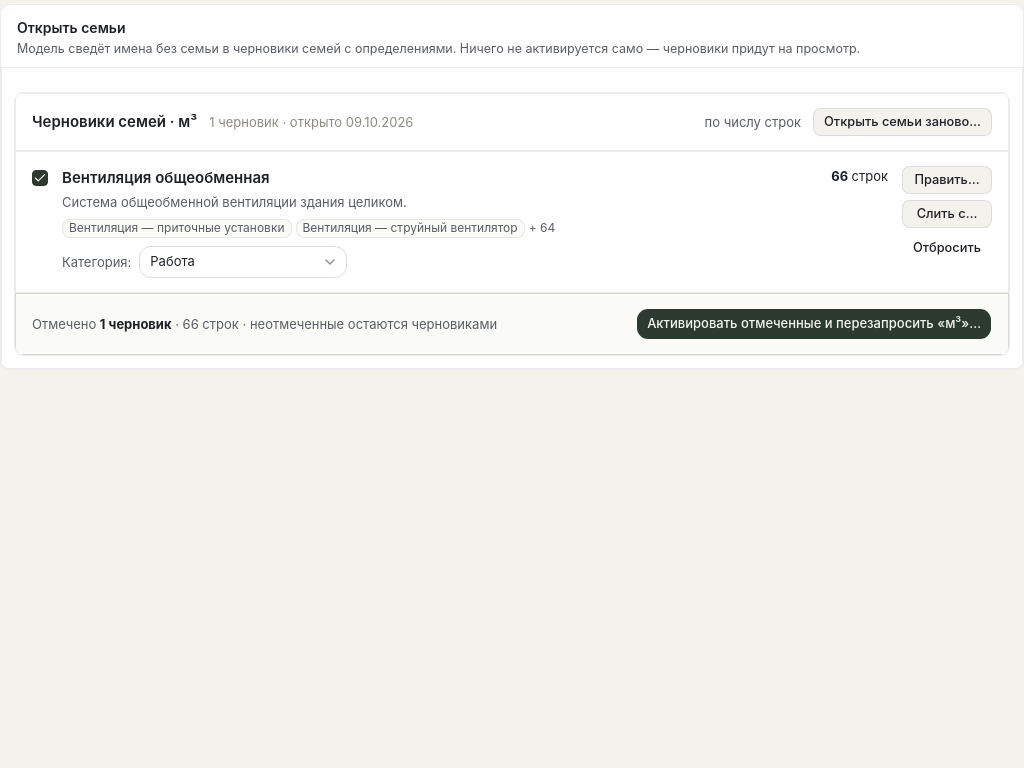
Scenario: DiscoveryBlock — черновики и перезапрос › активация открывает окно перезапроса единицы reask_unit_id; подтверждение шлёт её id
This screenshot has width=1024, height=768.
Click the button "Активировать отмеченные и перезапросить «м³»…".
click(814, 324)  # box [636,308,992,340]
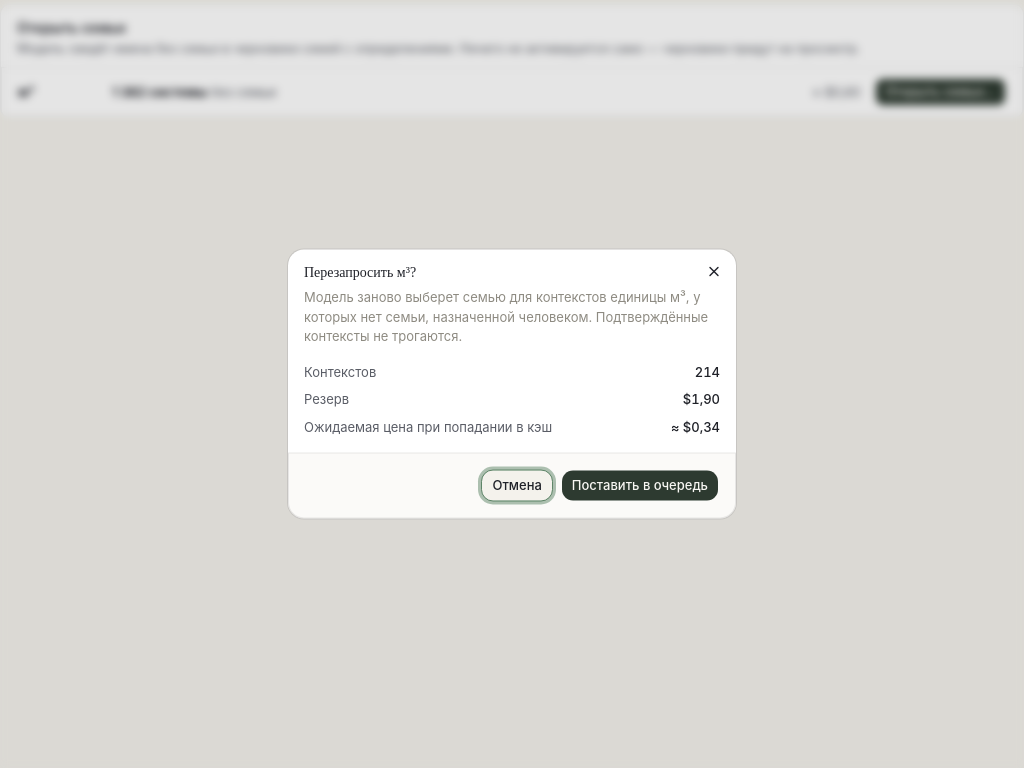
Expected: the heading "Перезапросить м³?" is shown, [304,264,416,280]
Expected: the text "Ожидаемая цена при попадании в кэш" is shown, [304,418,552,434]
Expected: the button "Поставить в очередь" is enabled
Note: Единица взята из ответа активации, а не из показанной строки.
Click the button "Поставить в очередь".
click(640, 486)  # box [561,470,719,502]
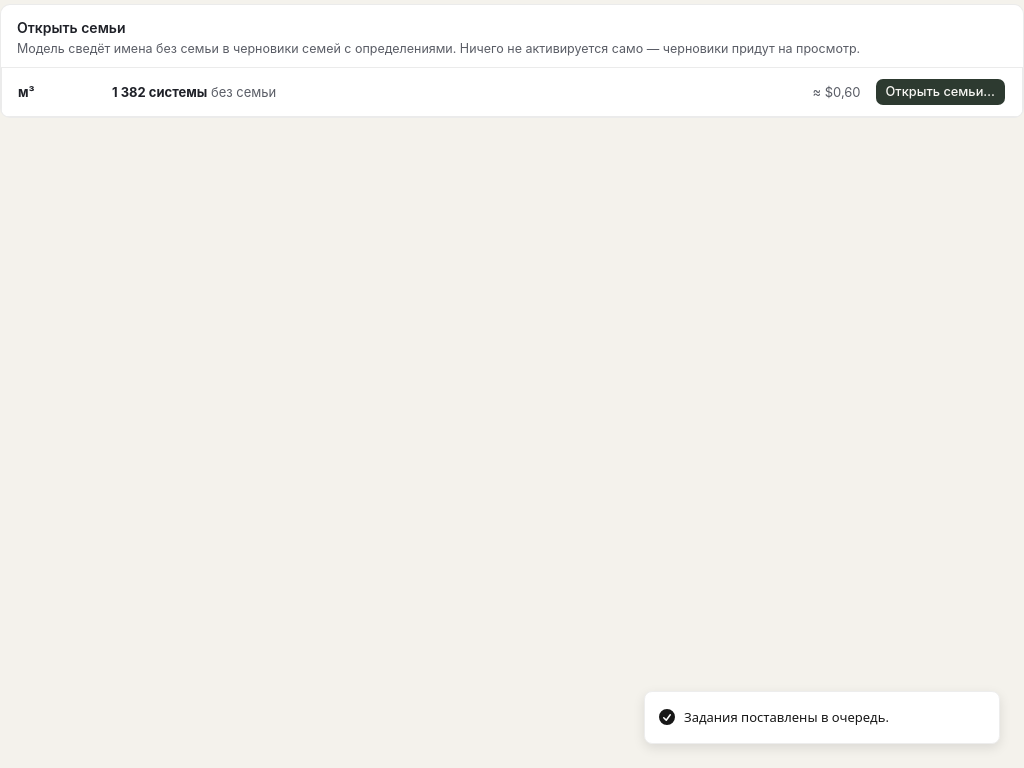
Expected: the button "Открыть семьи…" is shown, [875,78,1006,106]
Expected: the dialog is gone
